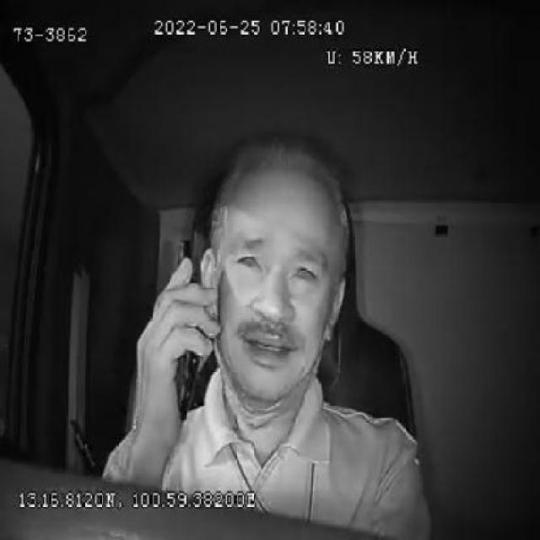phone: (164, 236, 205, 426)
